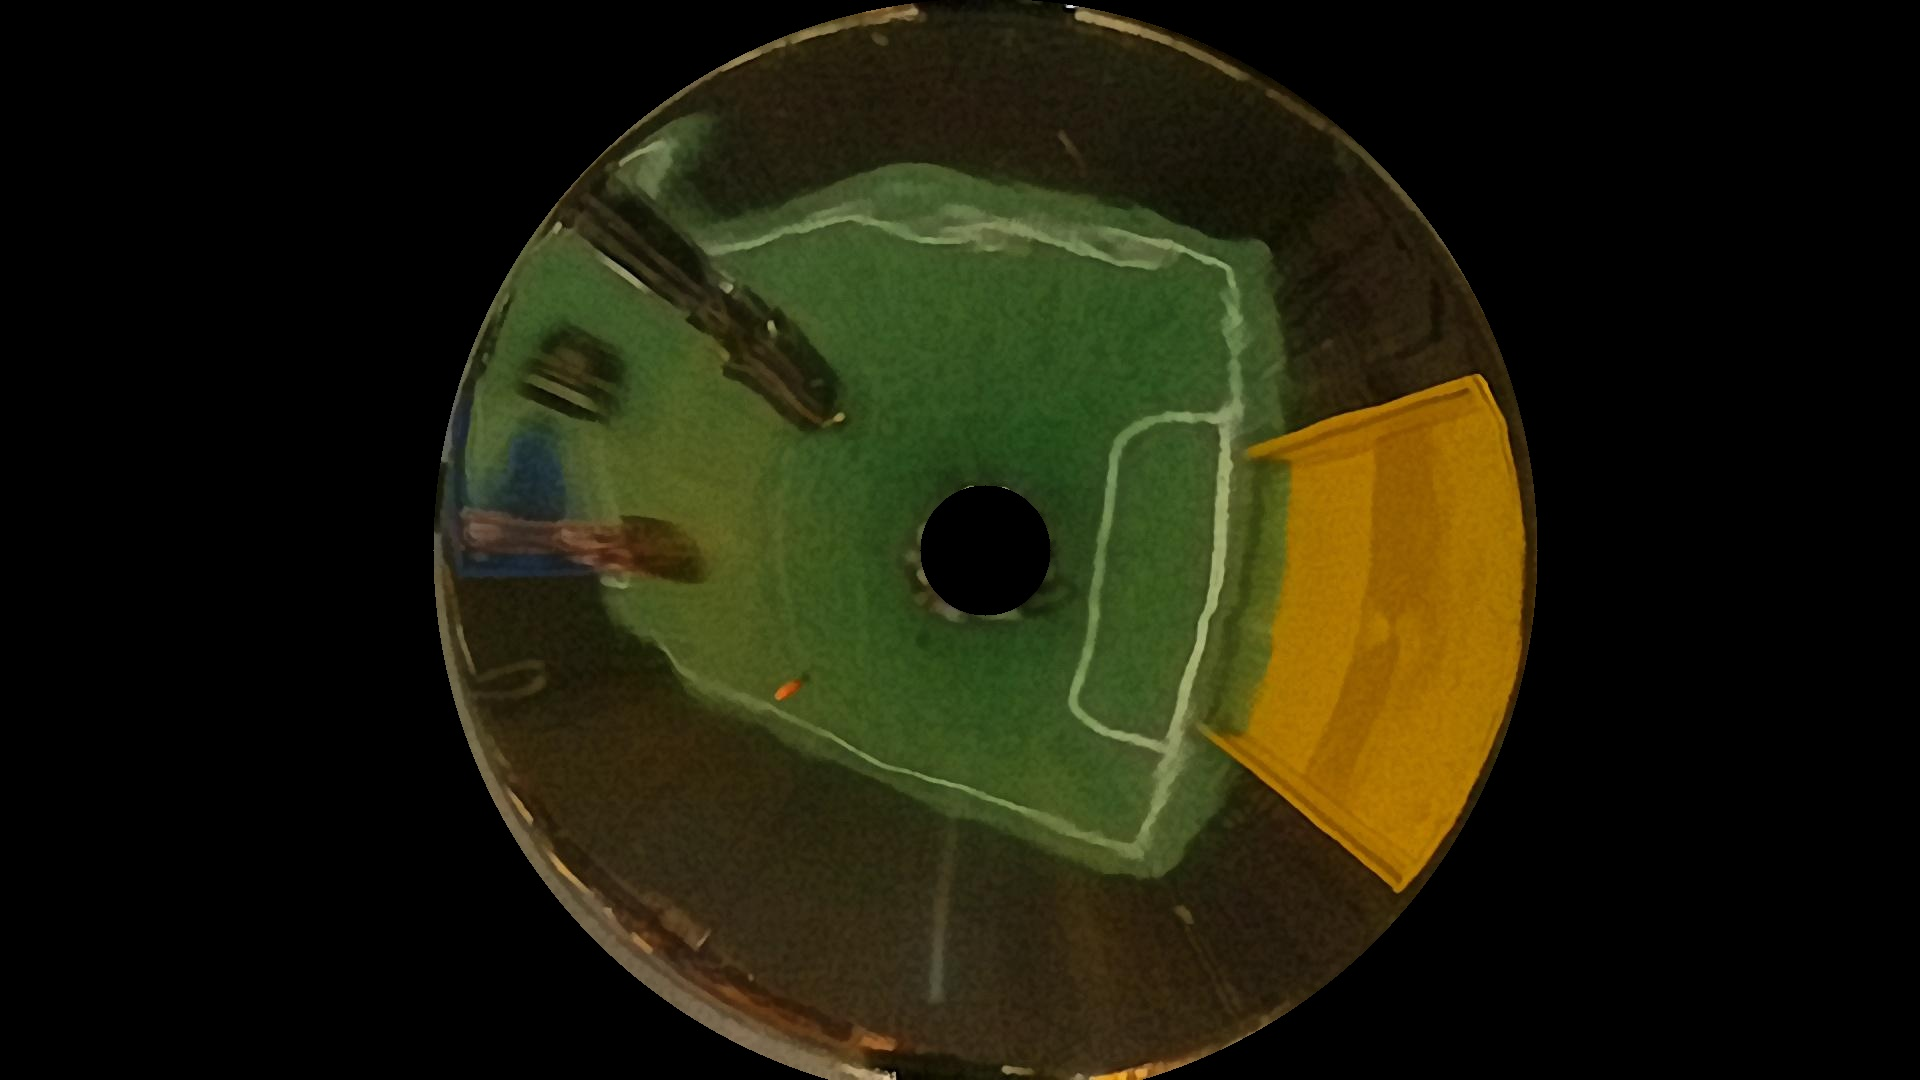ball: (772, 676, 796, 716)
blue-goal: (458, 384, 596, 578)
robots: (566, 172, 838, 414), (456, 510, 714, 586), (494, 320, 636, 424)
yellow-goal: (1230, 400, 1514, 892)
